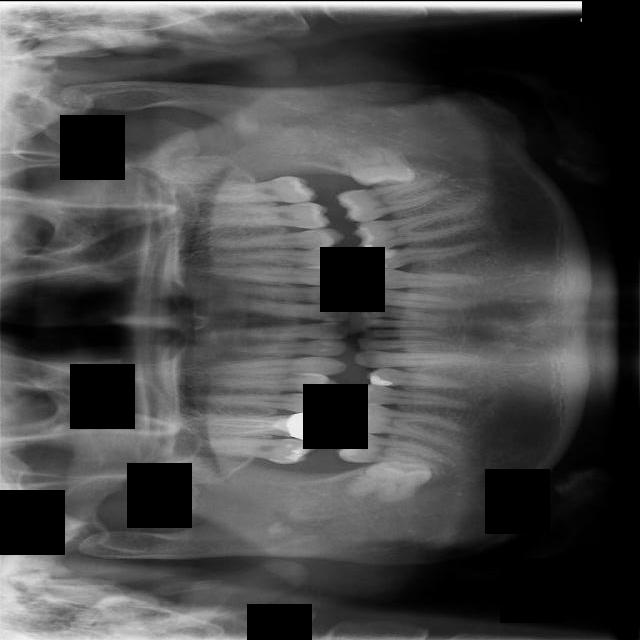52: (272, 403, 325, 443), (264, 434, 318, 466), (352, 218, 400, 252), (286, 199, 334, 231), (336, 430, 381, 463), (269, 175, 318, 203), (347, 402, 389, 433), (368, 248, 407, 270), (365, 367, 401, 386)
73: (590, 14, 604, 22)
BioHorizons Implant: (210, 174, 317, 203)
Biomet 3i Implant: (342, 141, 417, 191)
Blue Sky Bio Implant: (335, 175, 444, 225)
Caries: (196, 435, 316, 464)
Implant: (337, 429, 438, 468)
Keystone Dental Implant: (346, 456, 433, 505)
